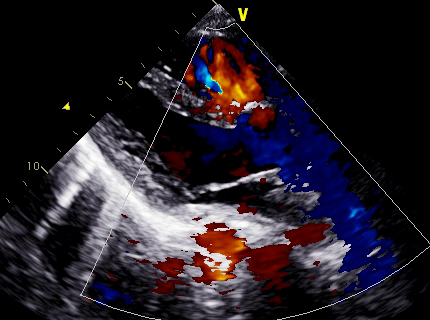AR: (167, 143, 262, 181)
